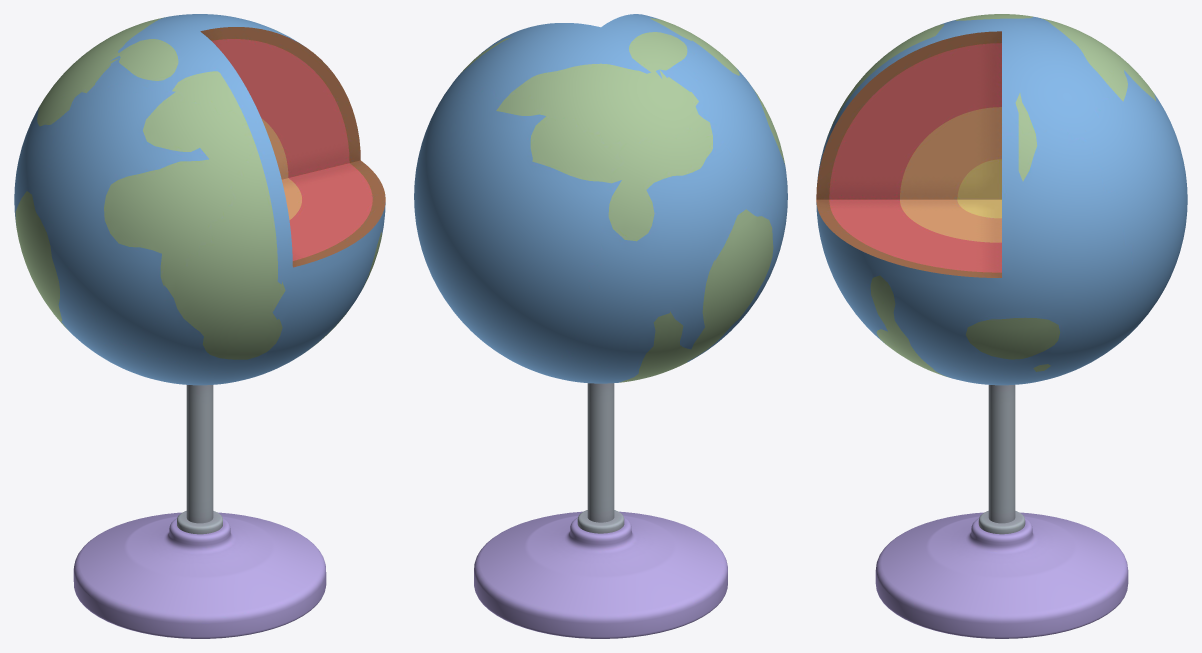
The model's file is earth-layers.glb.
3 views of the same model, side by side, from view 1: azimuth 30°, elevation 25°; view 2: azimuth 150°, elevation 25°; view 3: azimuth 270°, elevation 25° (orthographic).
Parts seen in each view (by area): view 1: earth-layers_body; view 2: earth-layers_body; view 3: earth-layers_body.
Part boxes in pixels (box(x1,y1,x2,y2)): earth-layers_body: box(14, 14, 385, 638); earth-layers_body: box(414, 14, 787, 638); earth-layers_body: box(816, 14, 1187, 638).
Size of the model in its own units: 0.2 by 0.33 by 0.2.
Materials: 1 (1 with a texture image).
